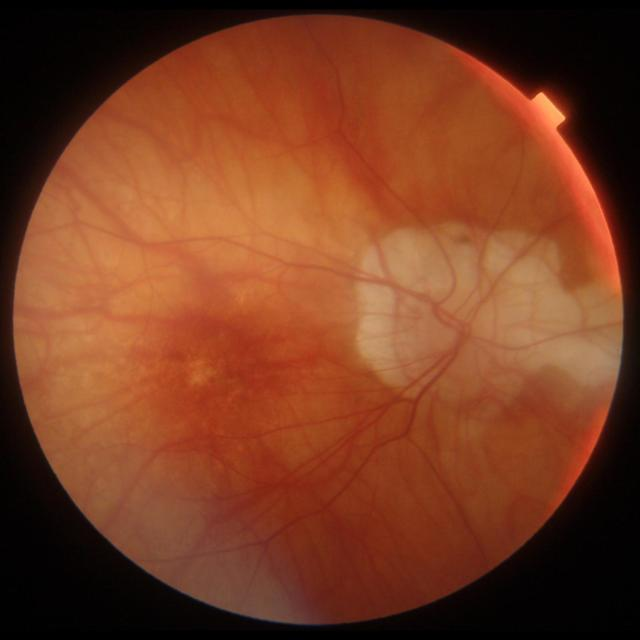OD: (396, 265, 524, 404)
